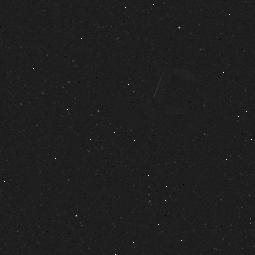soho: (137, 59, 206, 124)
